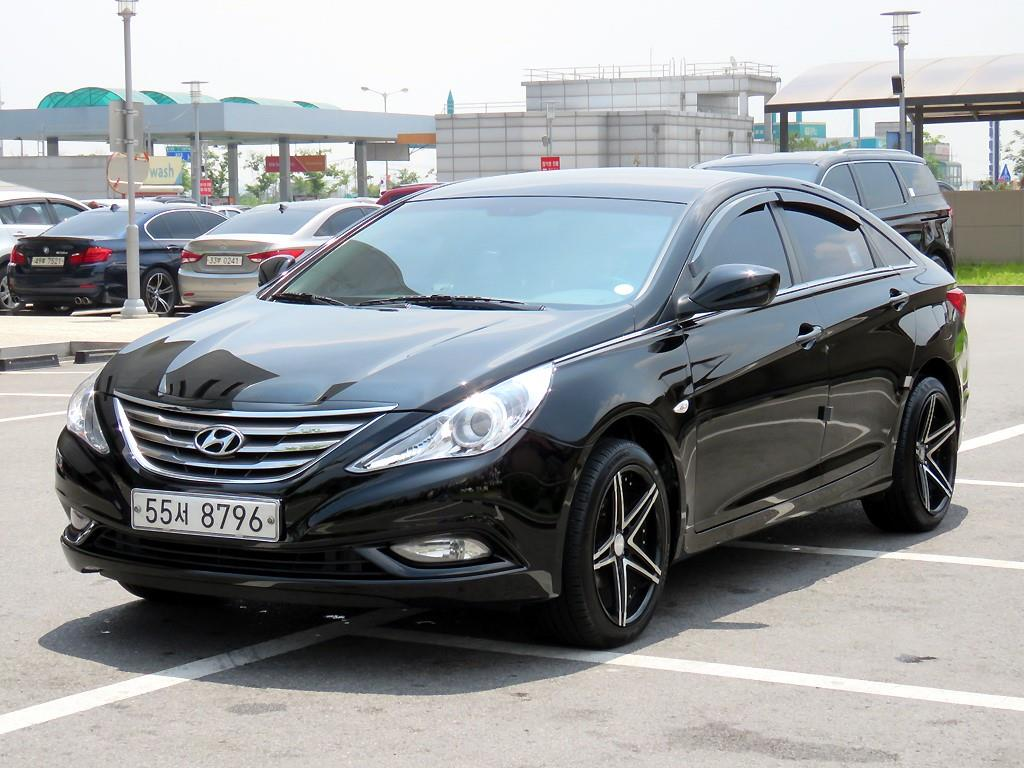plate: (133, 491, 277, 540)
